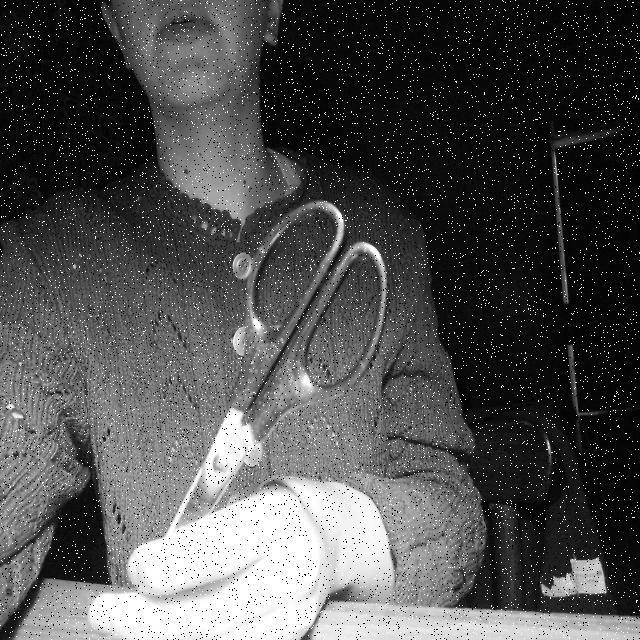scissors: (124, 186, 399, 611)
